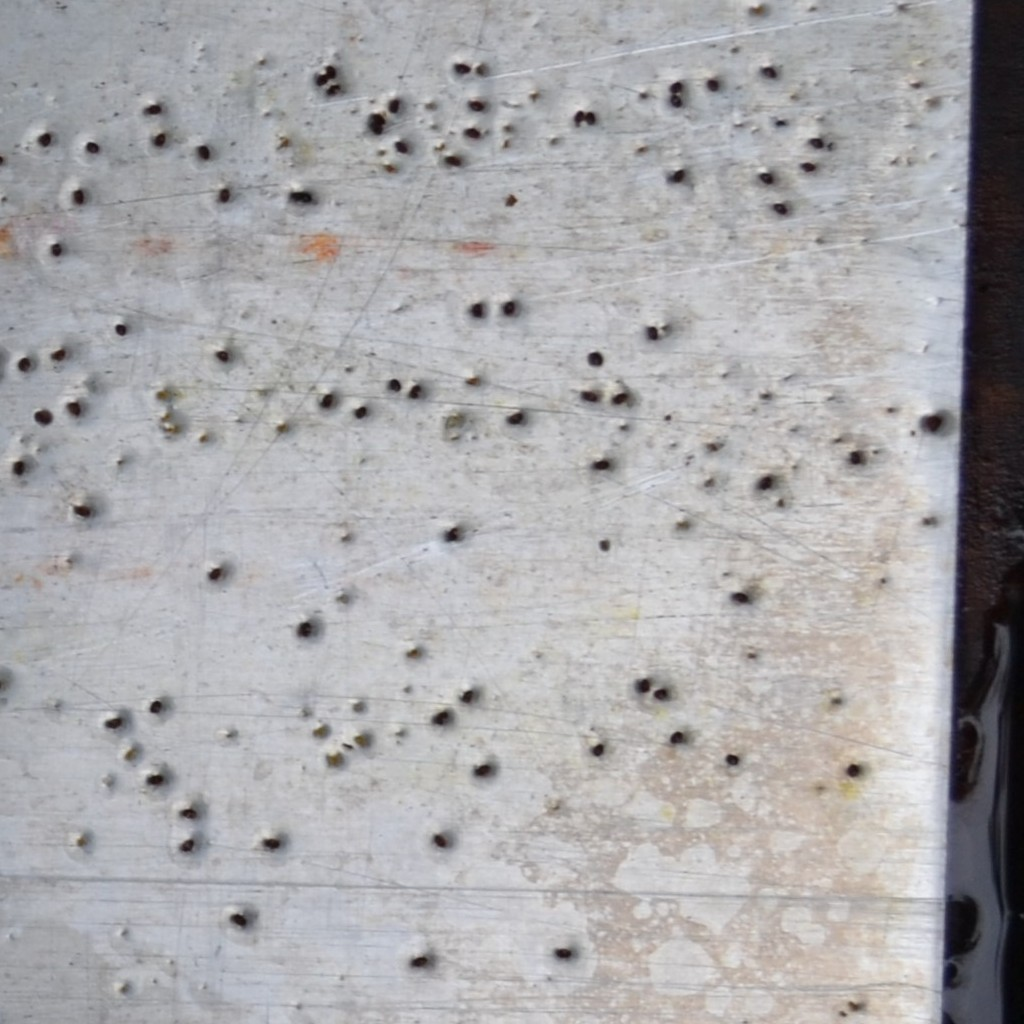varroa: (429, 824, 453, 854), (287, 184, 315, 208), (430, 704, 454, 730), (924, 410, 947, 435), (227, 906, 249, 932), (582, 346, 607, 368), (666, 725, 689, 748), (32, 406, 55, 429), (174, 835, 197, 858), (33, 128, 54, 153), (608, 388, 633, 409), (590, 454, 613, 476), (211, 343, 232, 367), (471, 759, 496, 779), (175, 802, 200, 822), (295, 618, 317, 640), (456, 684, 479, 705), (260, 834, 283, 855), (145, 769, 169, 789), (755, 473, 777, 494), (729, 588, 751, 609), (409, 952, 431, 973), (468, 301, 490, 321), (204, 563, 224, 585), (71, 502, 94, 521), (505, 409, 528, 428), (548, 946, 577, 961), (633, 674, 651, 698), (651, 686, 672, 706), (467, 93, 487, 114), (441, 524, 463, 543), (595, 535, 614, 557), (317, 390, 335, 413), (11, 455, 28, 479), (843, 761, 863, 781), (49, 344, 68, 365), (847, 447, 865, 469), (71, 184, 88, 207), (195, 141, 211, 165), (669, 165, 688, 185), (391, 137, 411, 156), (82, 139, 103, 157), (770, 202, 793, 218), (461, 125, 484, 141), (500, 298, 519, 317), (723, 749, 741, 769), (442, 153, 466, 168), (48, 240, 66, 260), (65, 399, 83, 419), (578, 387, 599, 404), (113, 318, 129, 340), (759, 64, 779, 81), (147, 696, 164, 716), (17, 354, 33, 375), (151, 130, 168, 149), (145, 102, 164, 119), (452, 59, 472, 75), (103, 715, 123, 731), (797, 159, 818, 174), (757, 168, 775, 185), (387, 376, 403, 395), (353, 404, 369, 423), (366, 121, 386, 136), (584, 106, 598, 127), (589, 742, 606, 759), (705, 75, 721, 93), (385, 97, 401, 115), (645, 323, 660, 342), (217, 184, 231, 203), (667, 80, 687, 93), (669, 92, 684, 109), (315, 71, 330, 88), (807, 136, 825, 150), (573, 108, 587, 125), (370, 111, 388, 124), (325, 62, 338, 80), (407, 389, 423, 399), (410, 382, 424, 393)
